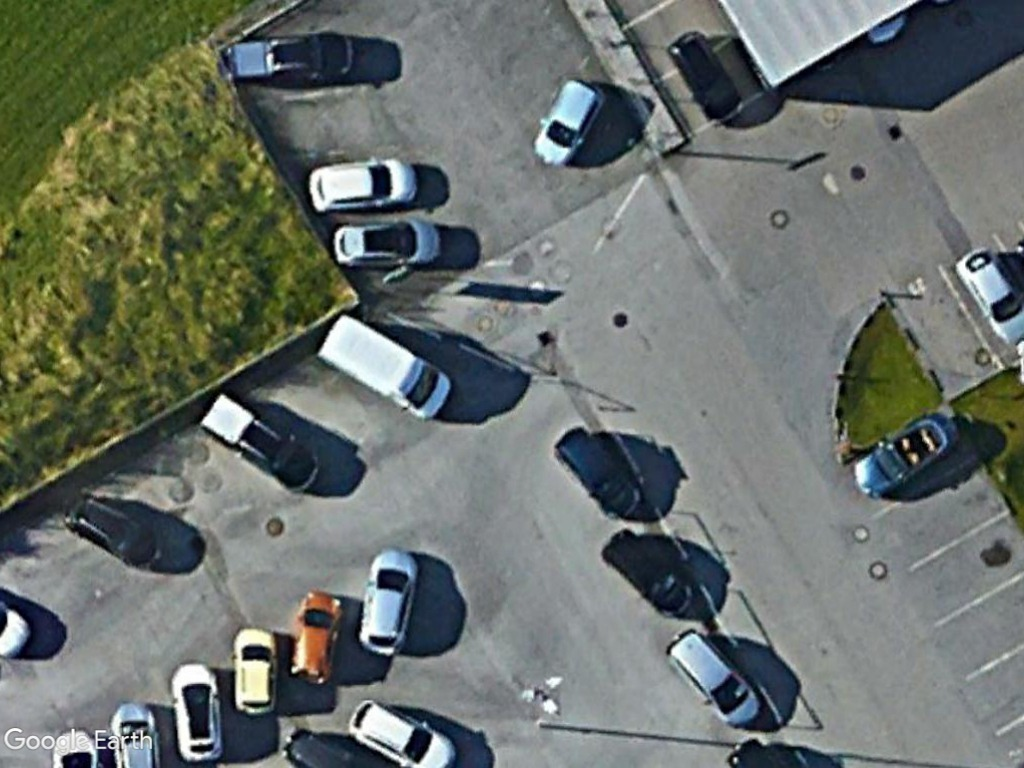car: (846, 411, 961, 503), (547, 422, 645, 524), (600, 526, 698, 620), (65, 493, 169, 574), (346, 693, 457, 768), (355, 546, 424, 658), (667, 31, 746, 126), (229, 27, 359, 84), (304, 151, 421, 213), (531, 73, 607, 168), (165, 661, 229, 765), (285, 587, 348, 688), (331, 215, 444, 269), (226, 624, 285, 719)
van: (318, 308, 457, 427), (203, 391, 324, 498), (661, 626, 765, 730)
